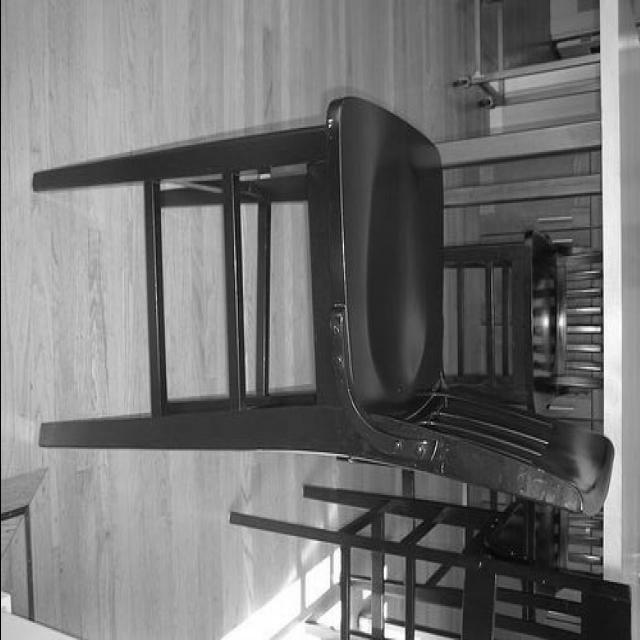chair: (31, 84, 614, 510), (227, 472, 634, 638), (434, 232, 606, 418)
